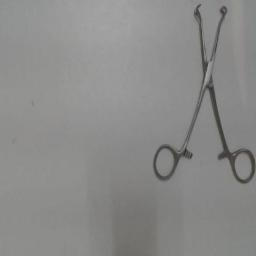Babcock Tissue Forceps: (148, 2, 256, 188)
